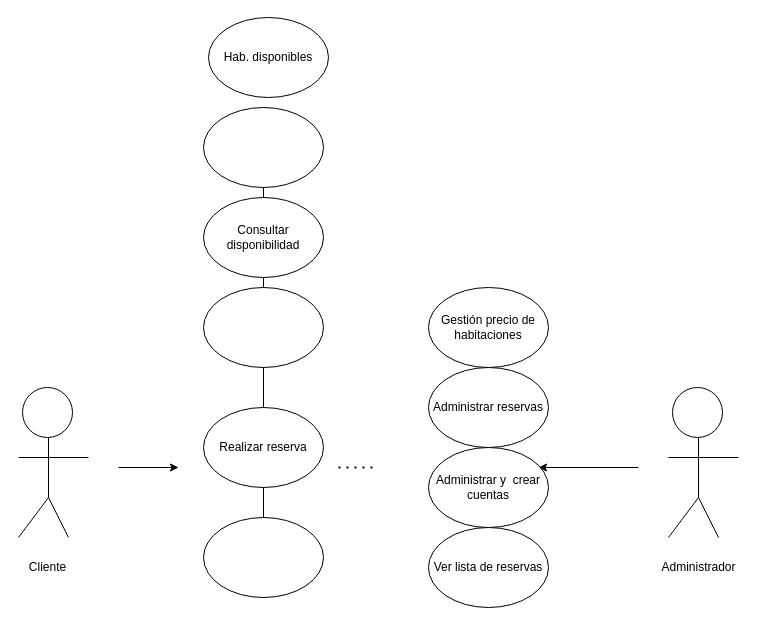
This 765x625 diagram has some shape labels left out. The centre of each missing label's shape, as x and y in pixels:
Calcular costo y pagar reserva: the point at 263,557
Catálogo: the point at 263,327
Fechas disponibles: the point at 263,147
